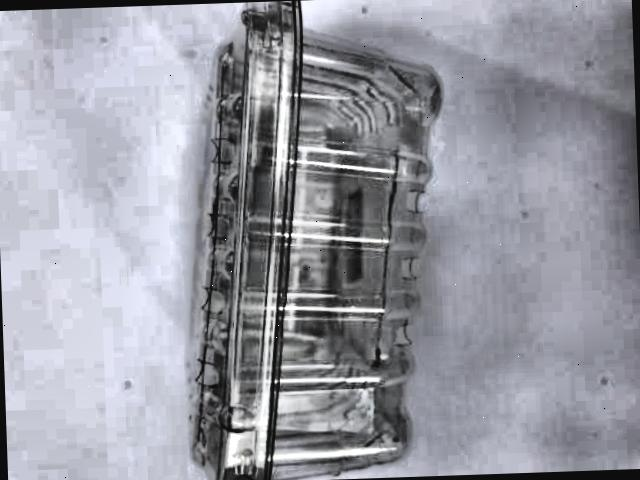Paper: (136, 2, 442, 480)
